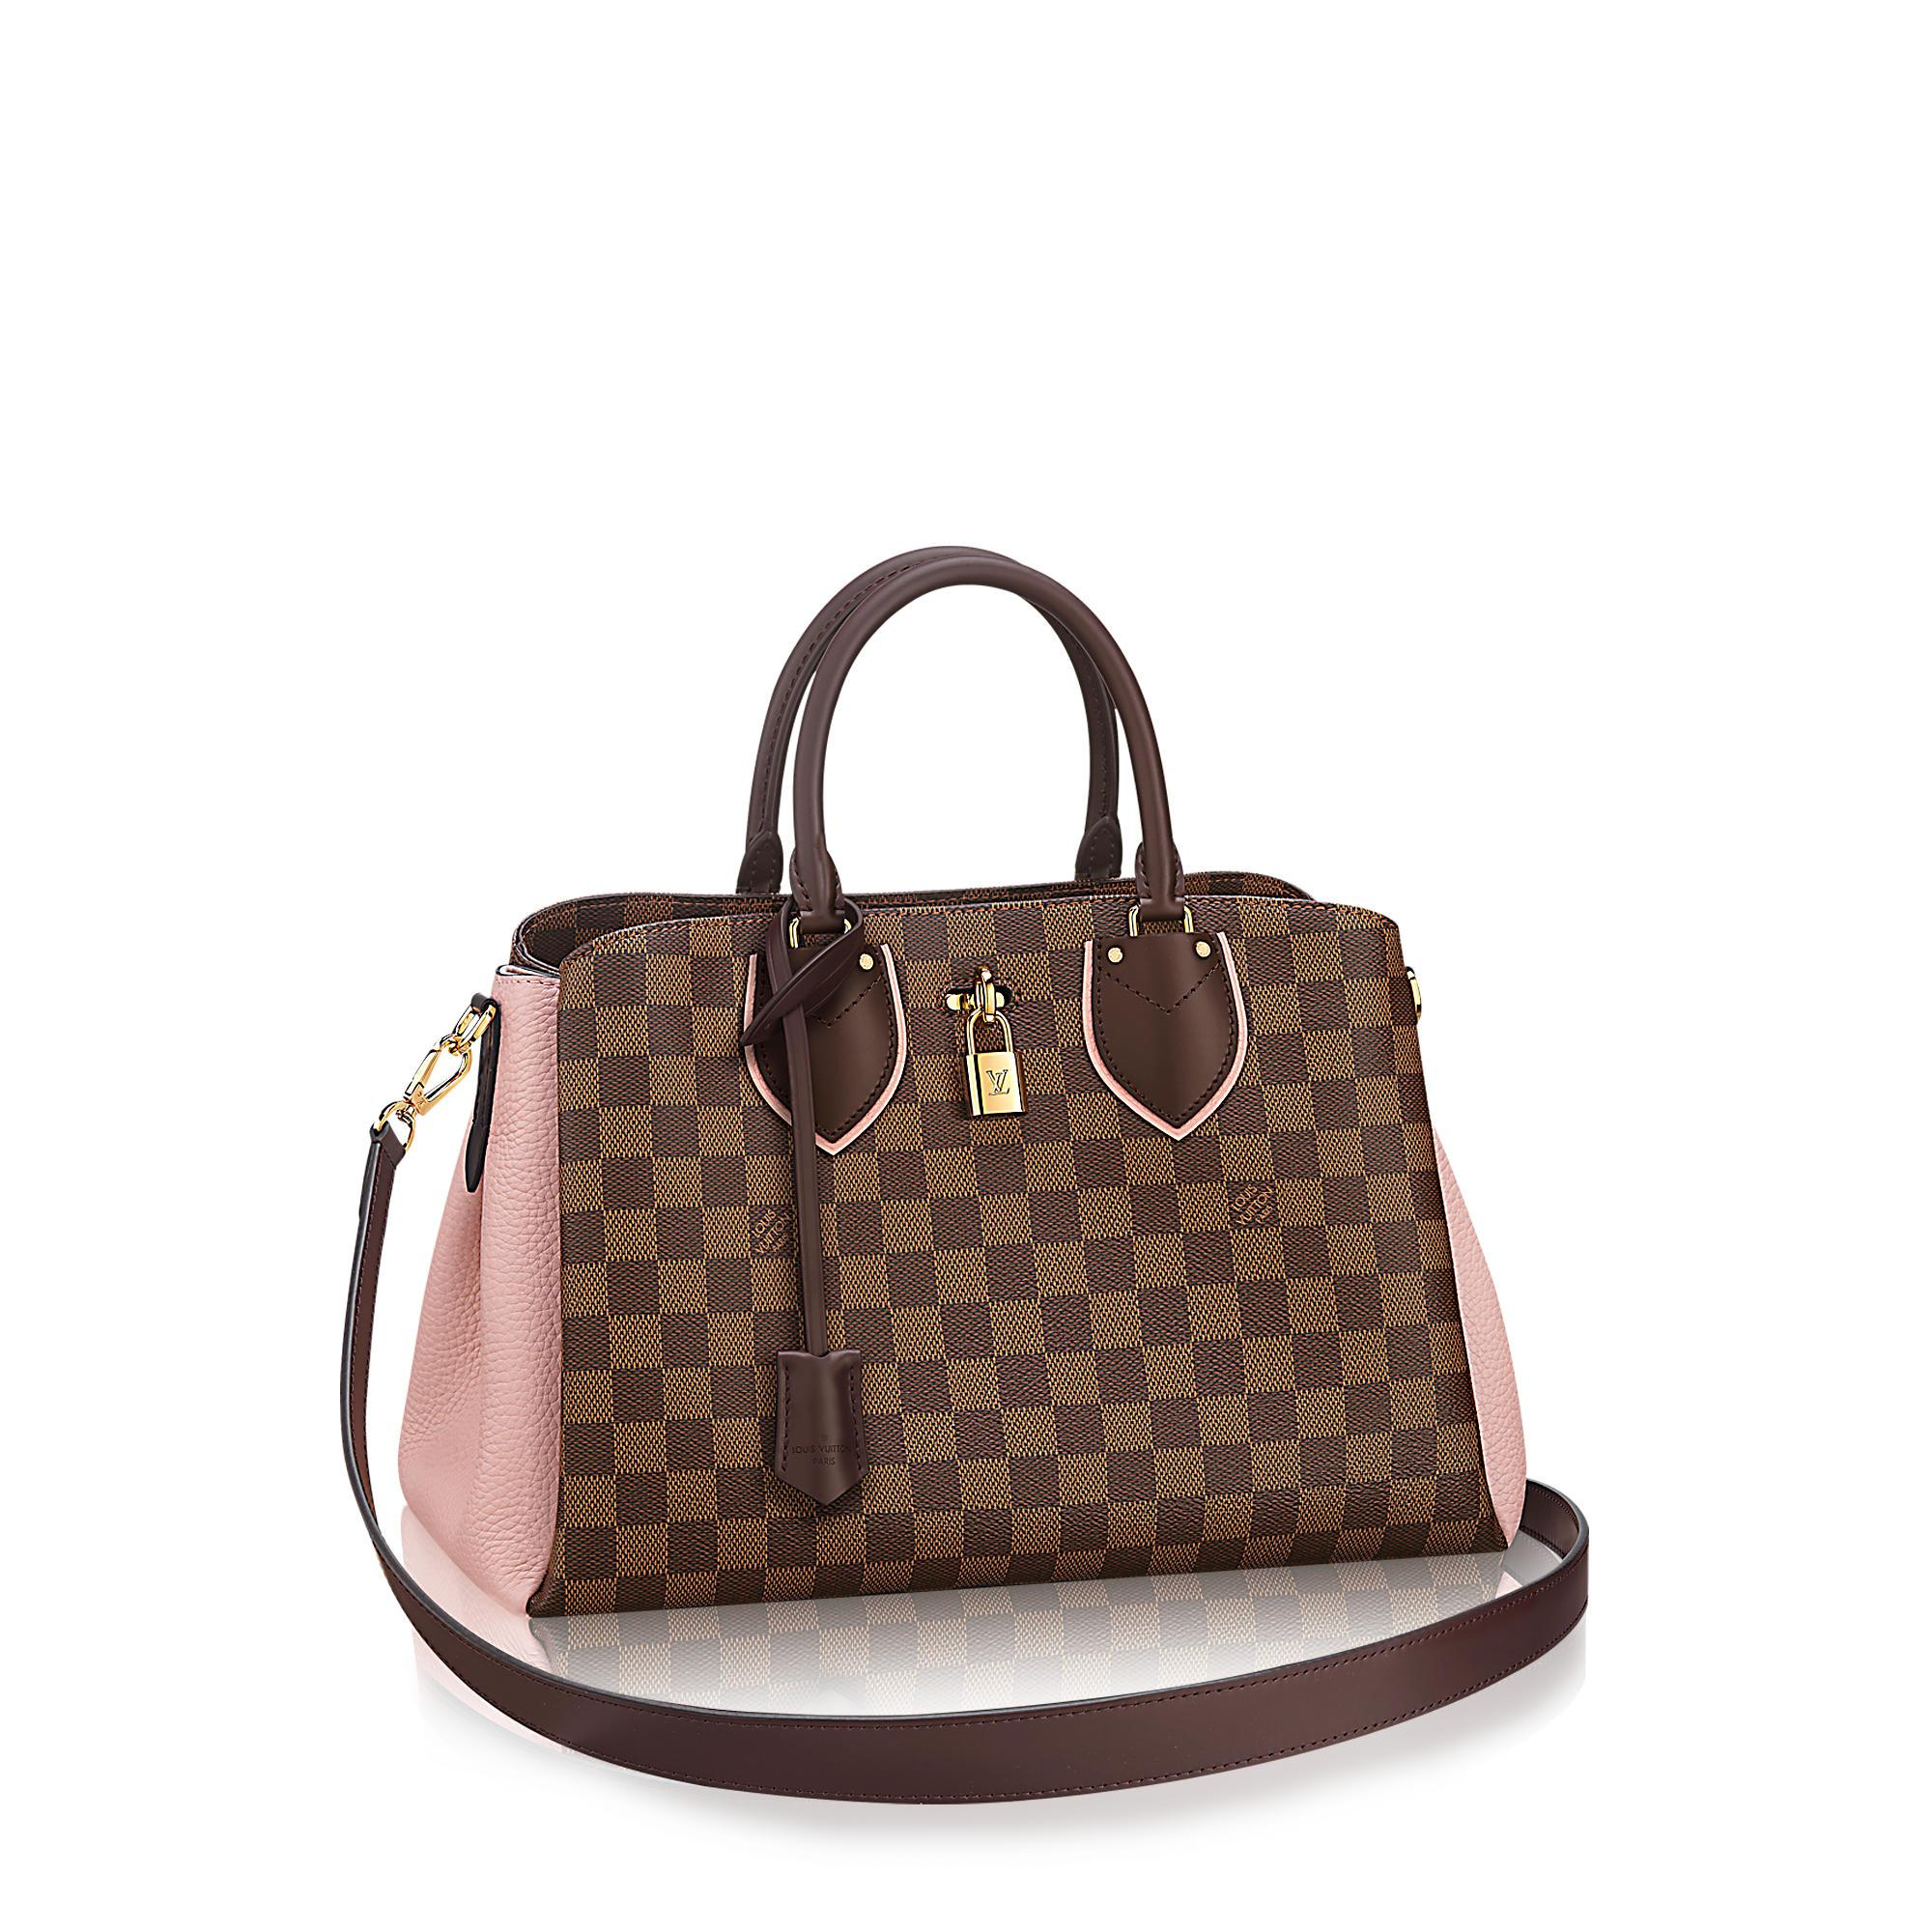LOUIS-VUITTON: (984, 1063, 1016, 1100)
